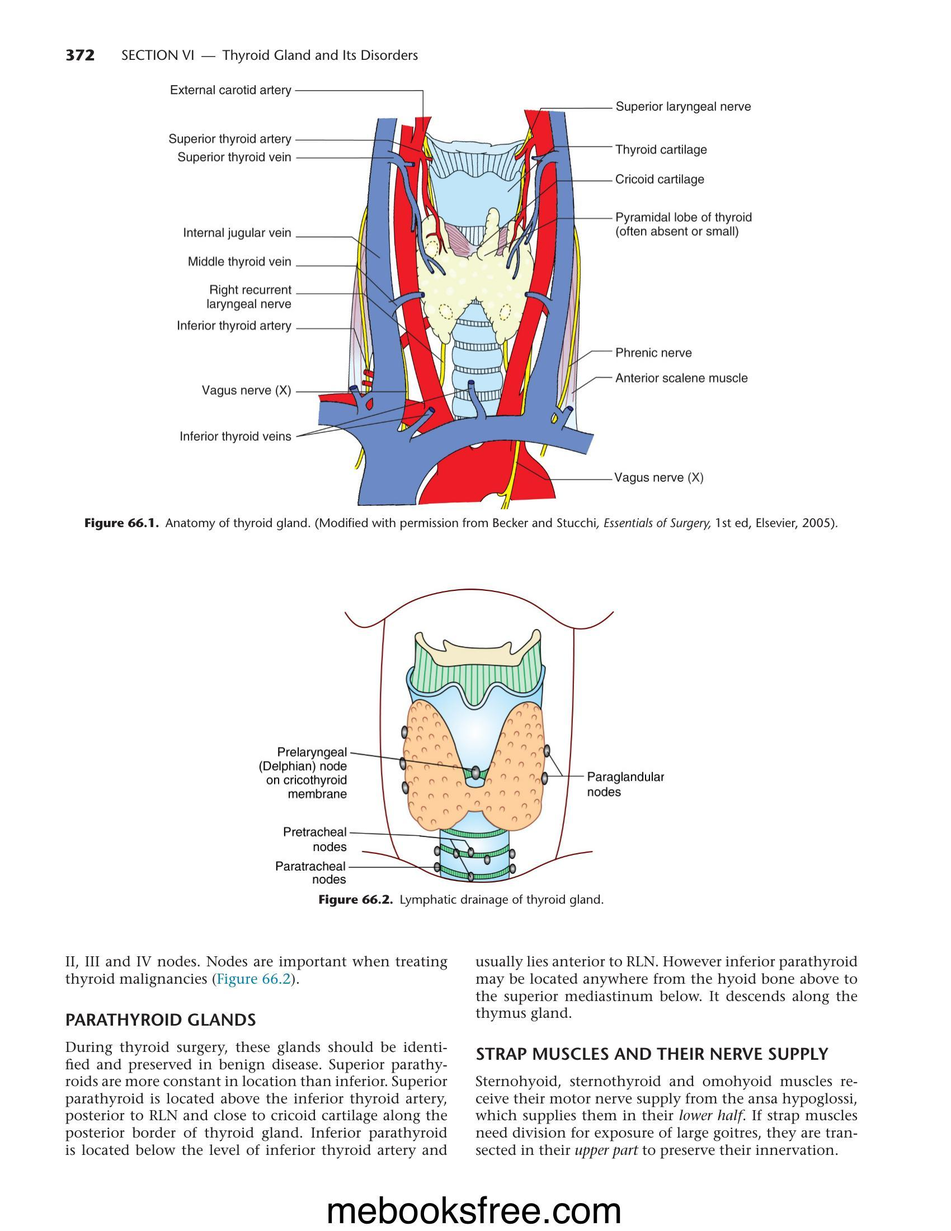caption: (84, 517, 839, 530), (318, 893, 604, 908)
header: (121, 48, 419, 65)
image: (136, 72, 792, 513), (236, 569, 684, 892)
section-heading: (475, 1046, 829, 1062), (64, 1011, 257, 1027)
text: (65, 1040, 448, 1160), (474, 1074, 858, 1160), (474, 955, 860, 1022), (64, 954, 448, 988)
